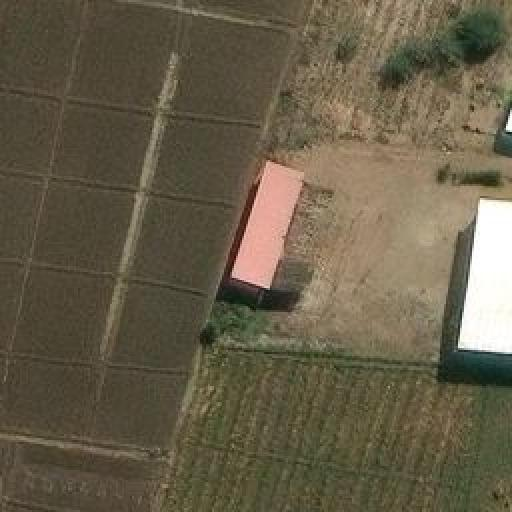manzanas: (207, 135, 510, 368)
